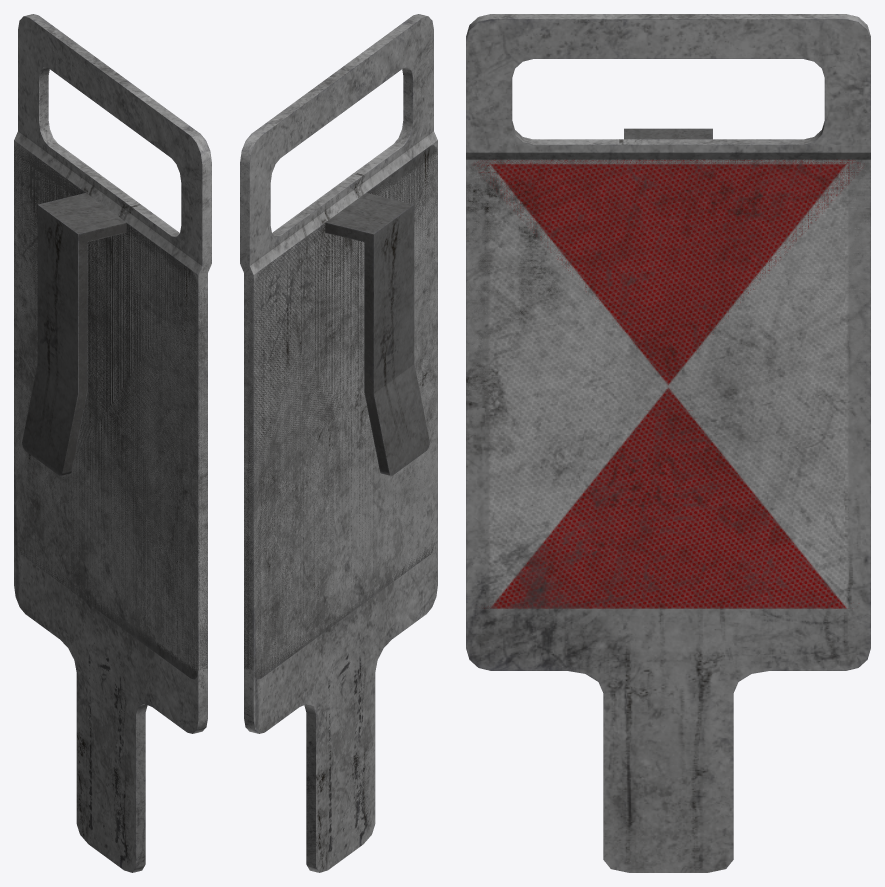
The picture shows the model from 3 angles, left to right: view 1: azimuth 30°, elevation 25°; view 2: azimuth 150°, elevation 25°; view 3: azimuth 270°, elevation 25°; orthographic projection. The views are drawn at different scales.
Visible parts, largest first — view 1: ZUGSCHLUSSTAFEL_L_LOD0, ZUGSCHLUSSTAFEL_S_LOD0; view 2: ZUGSCHLUSSTAFEL_L_LOD0, ZUGSCHLUSSTAFEL_S_LOD0; view 3: ZUGSCHLUSSTAFEL_L_LOD0, ZUGSCHLUSSTAFEL_S_LOD0.
Part boxes in pixels (x1,y1,x2,y2): ZUGSCHLUSSTAFEL_L_LOD0: (14, 14, 211, 872); ZUGSCHLUSSTAFEL_S_LOD0: (14, 145, 207, 679); ZUGSCHLUSSTAFEL_L_LOD0: (240, 14, 437, 872); ZUGSCHLUSSTAFEL_S_LOD0: (244, 145, 437, 679); ZUGSCHLUSSTAFEL_L_LOD0: (466, 14, 870, 872); ZUGSCHLUSSTAFEL_S_LOD0: (466, 128, 870, 608).
Size of what is drawn, in the model's own units: 16.5 by 4 by 38.5.
